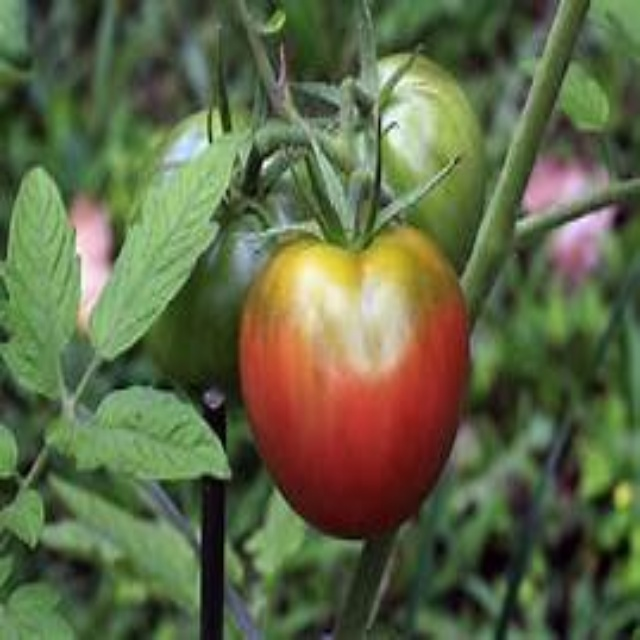tomato: (238, 231, 482, 538), (136, 108, 328, 383), (343, 57, 495, 264)
